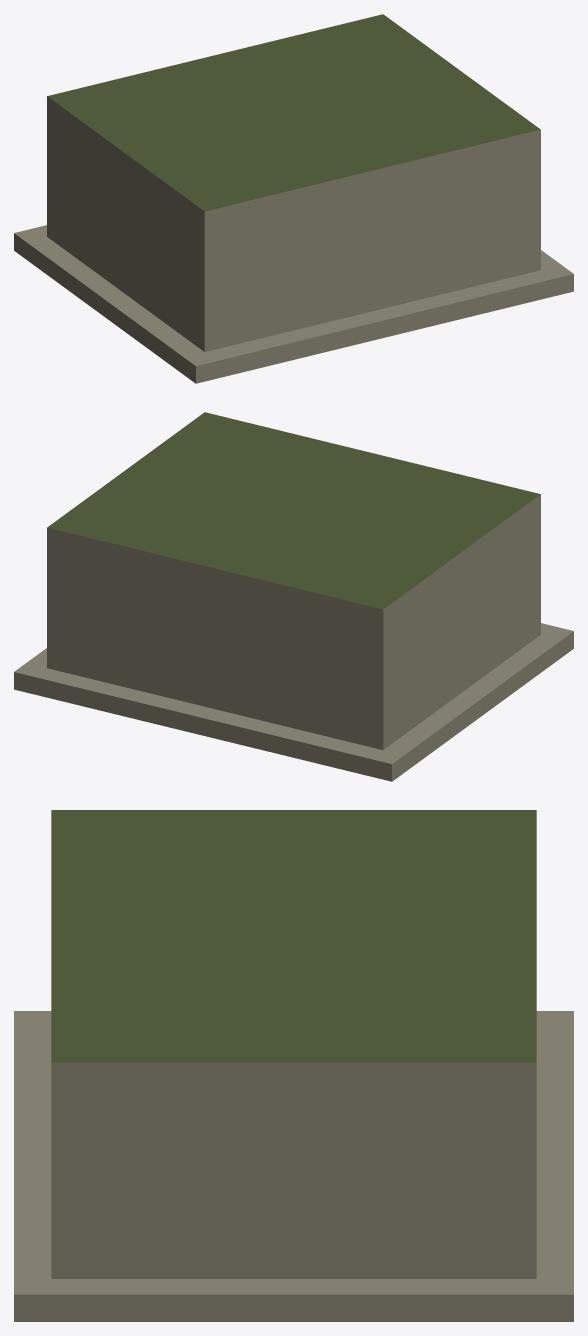
Rendered from ruin-house-a.tone-v1.lod2.glb.
The picture shows the model from 3 angles, top to bottom: view 1: azimuth 30°, elevation 25°; view 2: azimuth 150°, elevation 25°; view 3: azimuth 270°, elevation 25°; orthographic projection. The views are drawn at different scales.
Visible parts, largest first — view 1: ruin-house-a; view 2: ruin-house-a; view 3: ruin-house-a.
Boxes of the visible parts, <box> form: ruin-house-a: <box>14,14,573,383</box>; ruin-house-a: <box>14,412,573,781</box>; ruin-house-a: <box>14,810,573,1321</box>.
Size of the model in its own units: 9 by 3.6 by 7.5.
